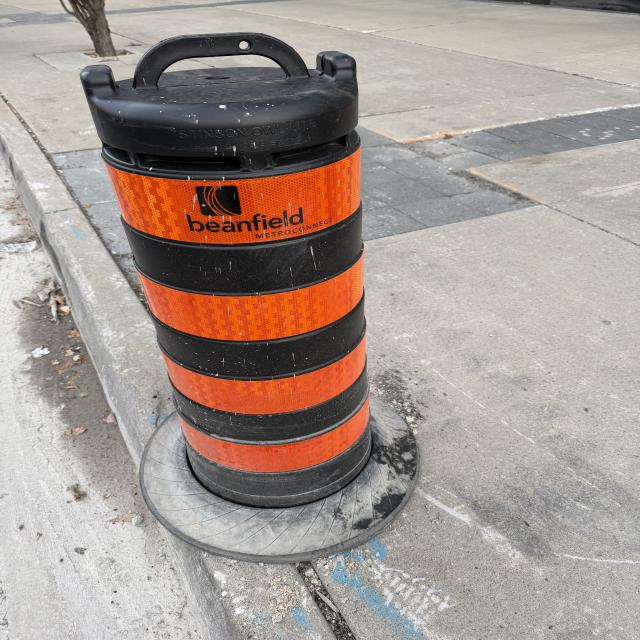Teraffic Barrel: (81, 33, 417, 508)
